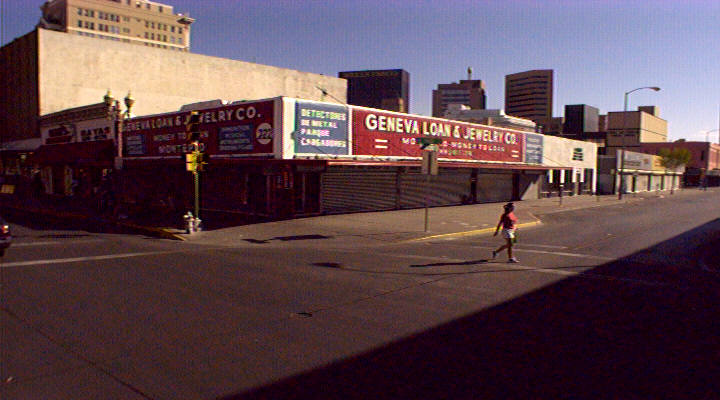Ramp: (165, 213, 418, 251)
